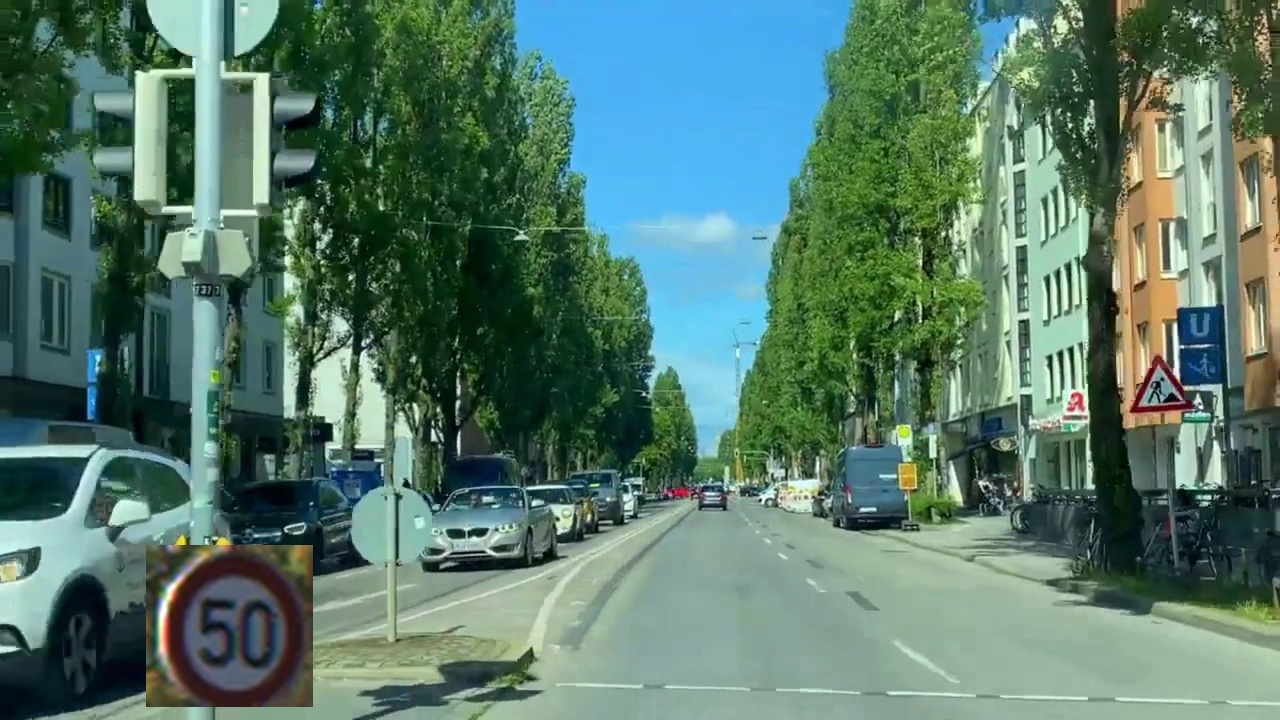Speed 50: (146, 545, 313, 707)
